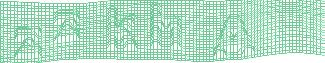A: (212, 12, 255, 61)
h: (148, 2, 182, 54)
k: (105, 6, 140, 54)
z: (12, 26, 42, 59), (53, 9, 81, 43)
